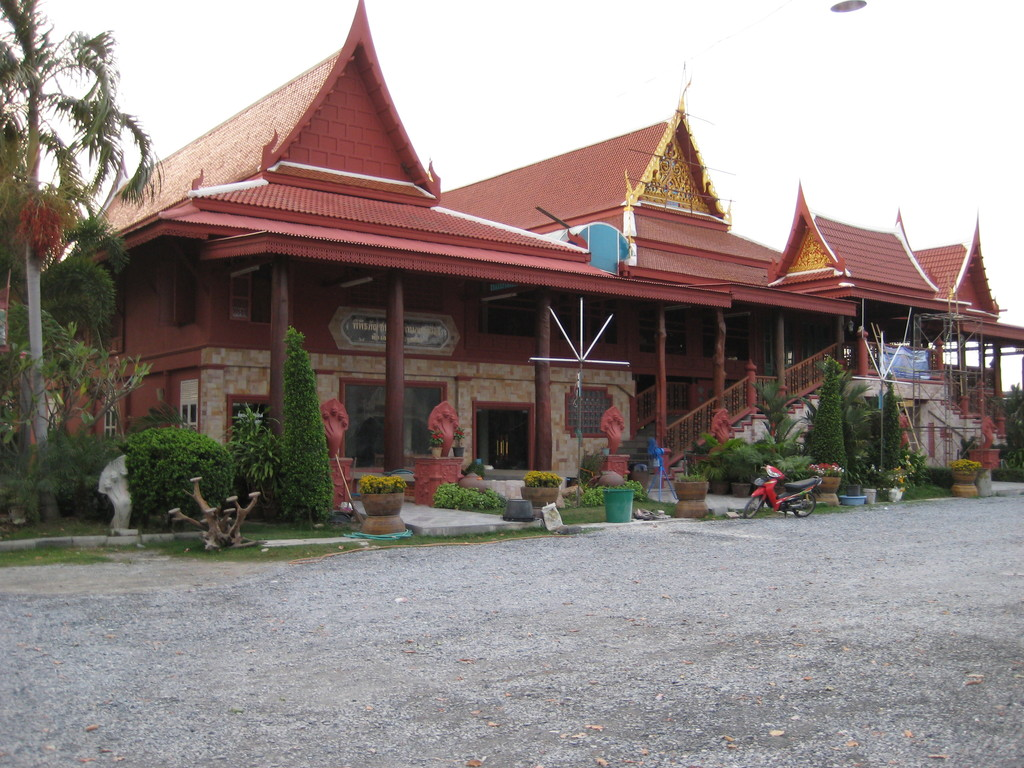Tree: (0, 0, 152, 446), (31, 251, 128, 444), (273, 320, 331, 517), (803, 357, 846, 485), (879, 375, 900, 471)
